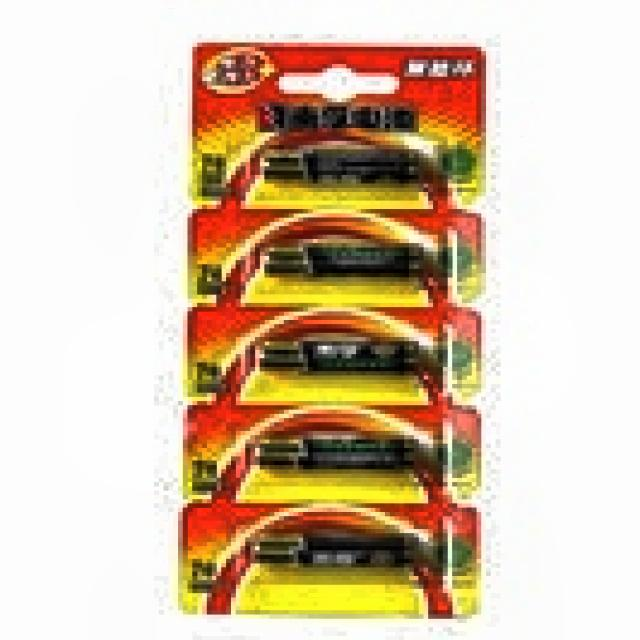Non-Valuable Waste - Batteries: (182, 44, 484, 617)
